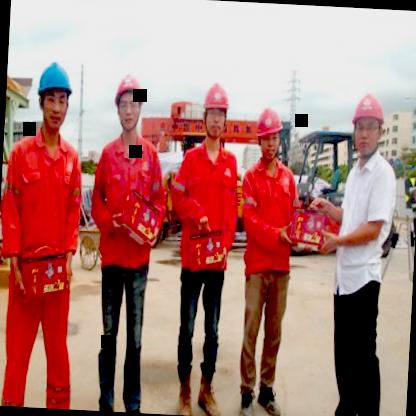helmet: (31, 48, 80, 136), (346, 82, 392, 160), (250, 96, 288, 168), (197, 72, 232, 147), (110, 67, 146, 137)
